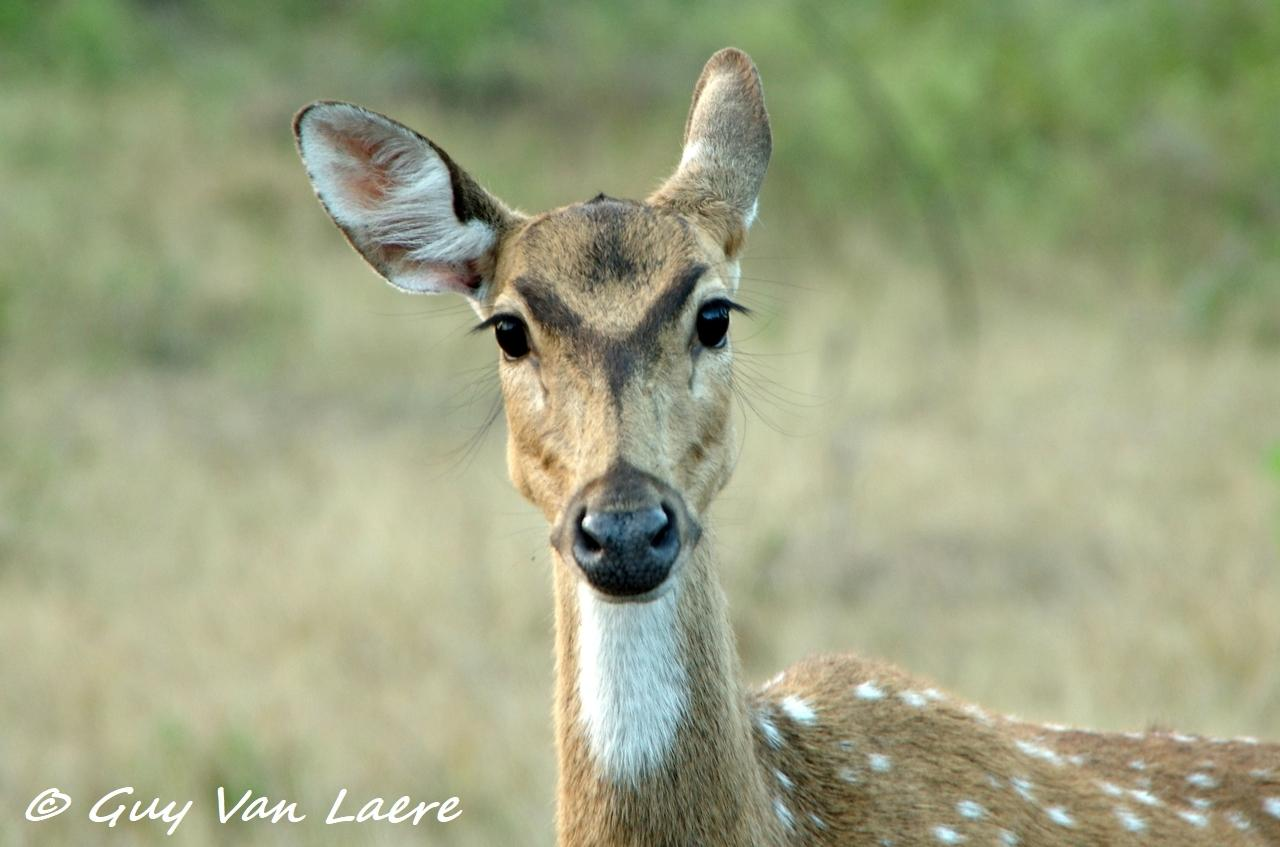Deer: (292, 48, 1279, 846)
